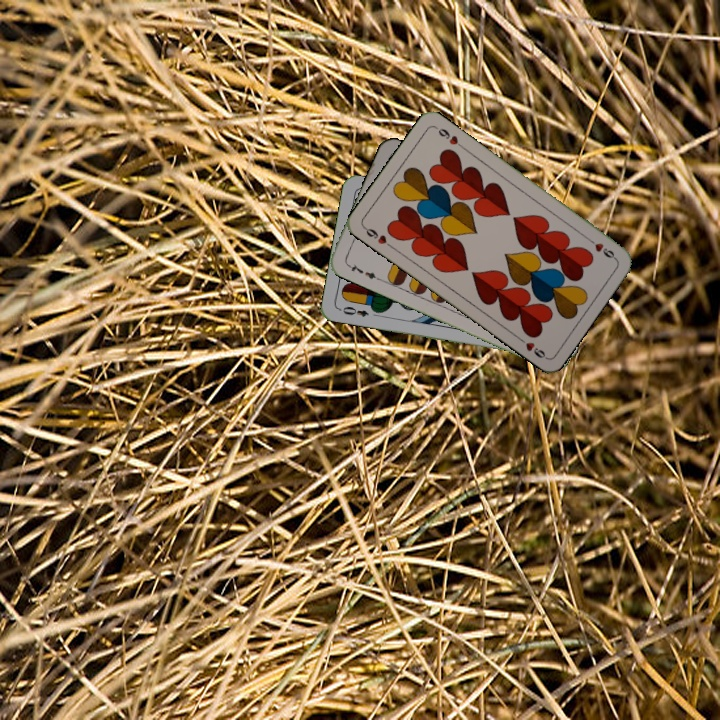E7: (343, 259, 381, 282)
EO: (335, 302, 371, 319)
H9: (360, 223, 395, 251), (584, 234, 619, 262)
